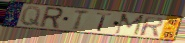M: (113, 13, 146, 37)
Q: (19, 5, 43, 27)
R: (38, 6, 65, 30), (139, 15, 164, 38)
T: (73, 9, 91, 31), (96, 12, 114, 33)
